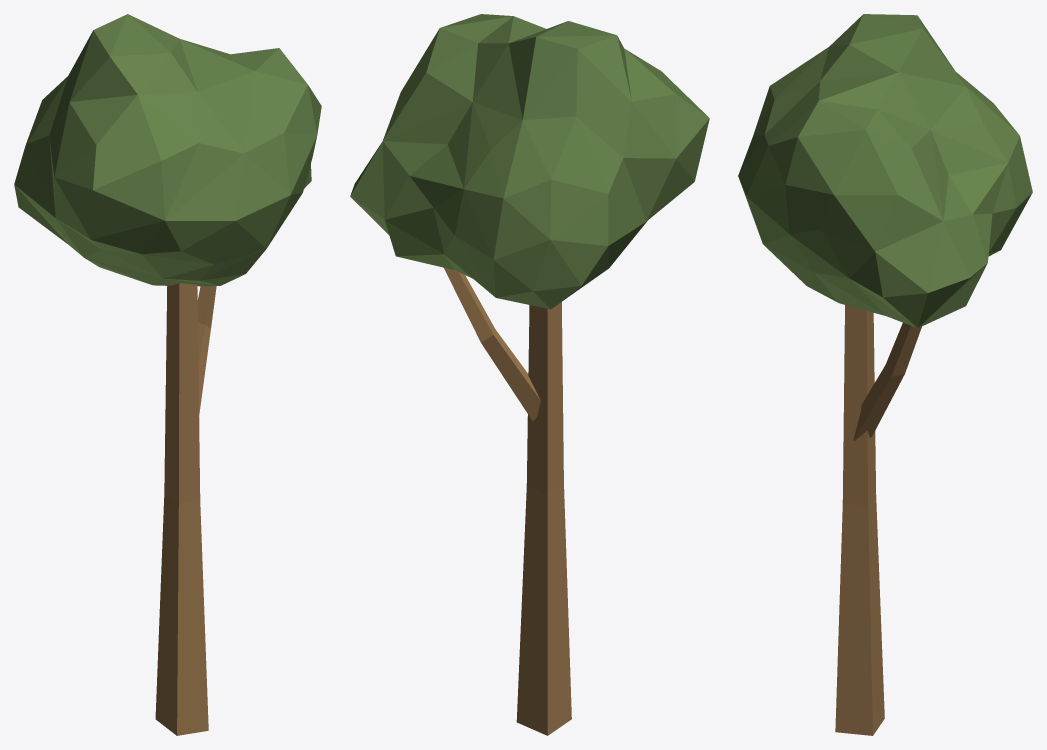
File: tree_02.fbx
The picture shows the model from 3 angles, left to right: view 1: azimuth 30°, elevation 25°; view 2: azimuth 150°, elevation 25°; view 3: azimuth 270°, elevation 25°; orthographic projection. The views are drawn at different scales.
Parts seen in each view (by area): view 1: tree_02; view 2: tree_02; view 3: tree_02.
Part boxes in pixels (<box>): tree_02: <box>14,14,321,735</box>; tree_02: <box>350,14,709,735</box>; tree_02: <box>738,14,1032,735</box>.
Bounding box in the file's own units: 239 × 570 × 222.
